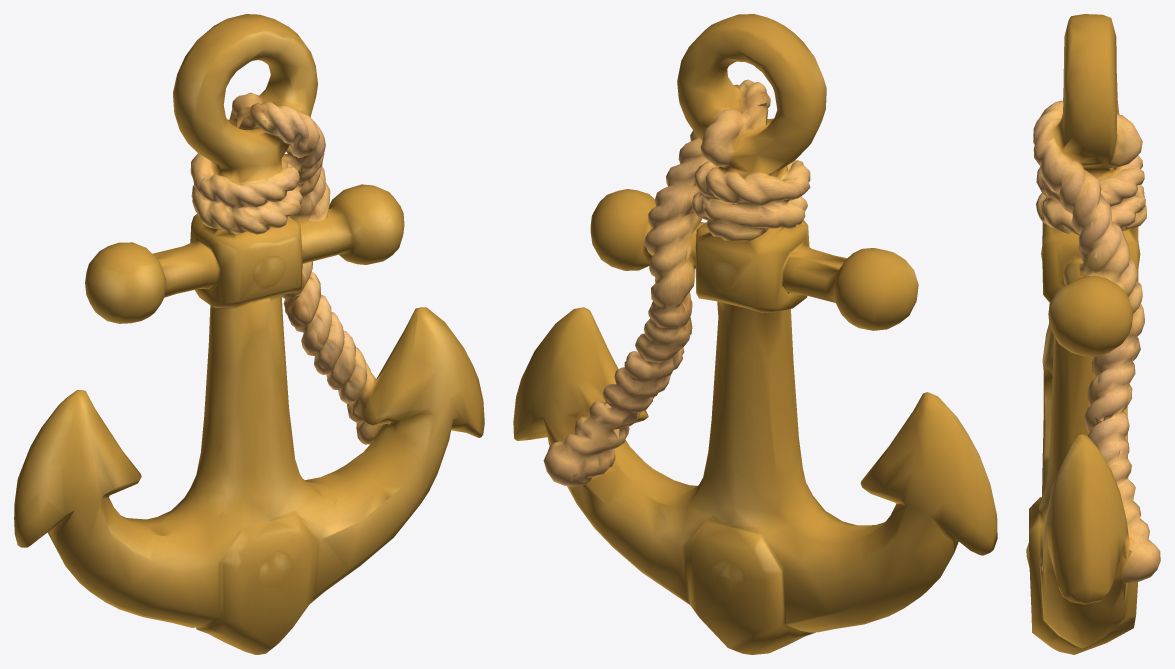
The model's file is anchor.glb.
The picture shows the model from 3 angles, left to right: view 1: azimuth 30°, elevation 25°; view 2: azimuth 150°, elevation 25°; view 3: azimuth 270°, elevation 25°; orthographic projection. The views are drawn at different scales.
Parts seen in each view (by area): view 1: anchor; view 2: anchor; view 3: anchor.
Part boxes in pixels (x1=…): anchor: x1=14, y1=14, x2=484, y2=654; anchor: x1=513, y1=14, x2=997, y2=654; anchor: x1=1026, y1=14, x2=1160, y2=654.
Bounding box in the file's own units: 2.04 × 2.6 × 0.5006.
Materials: 1 (1 with a texture image).
